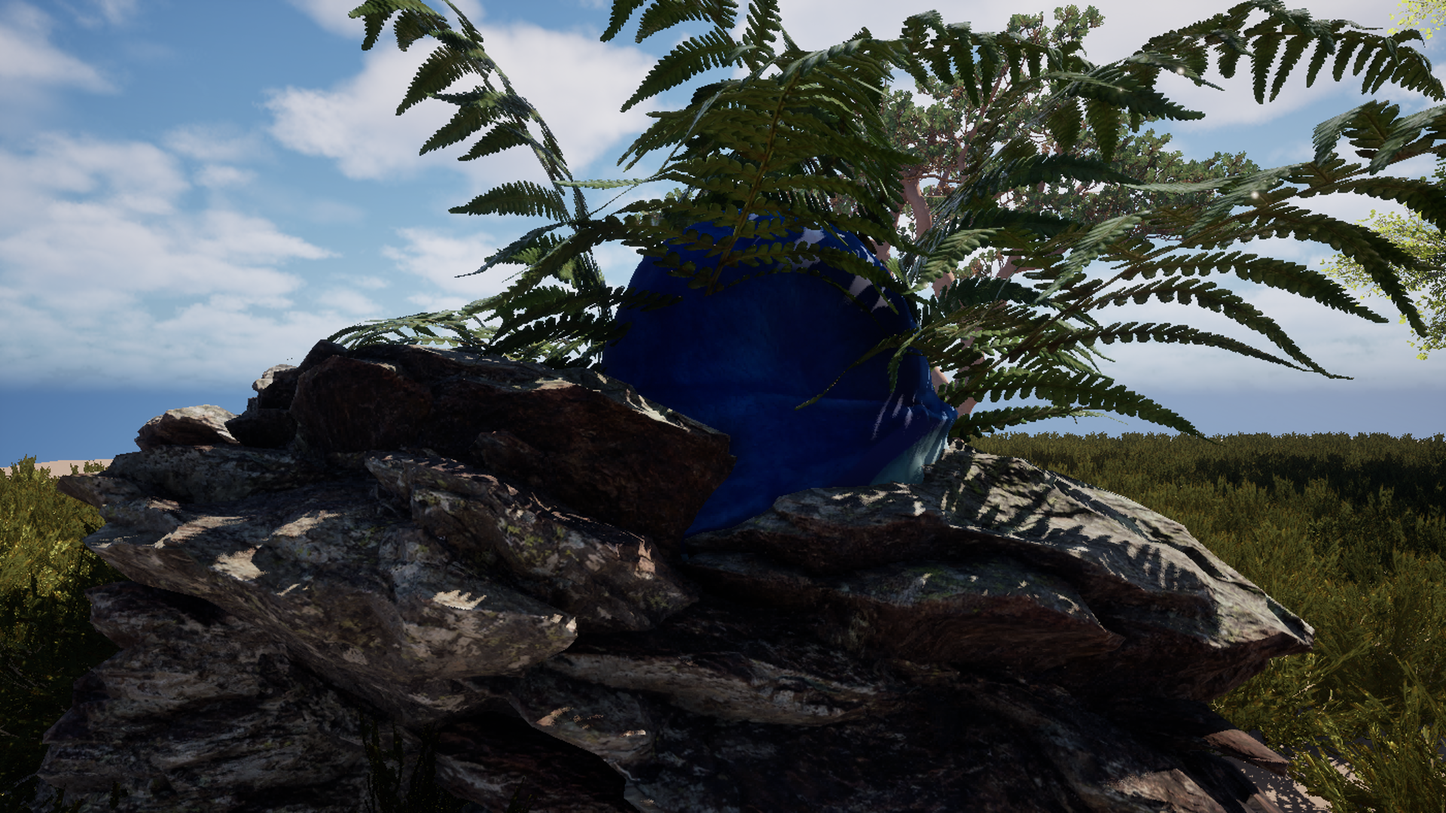Piplup: (451, 54, 1130, 759)
